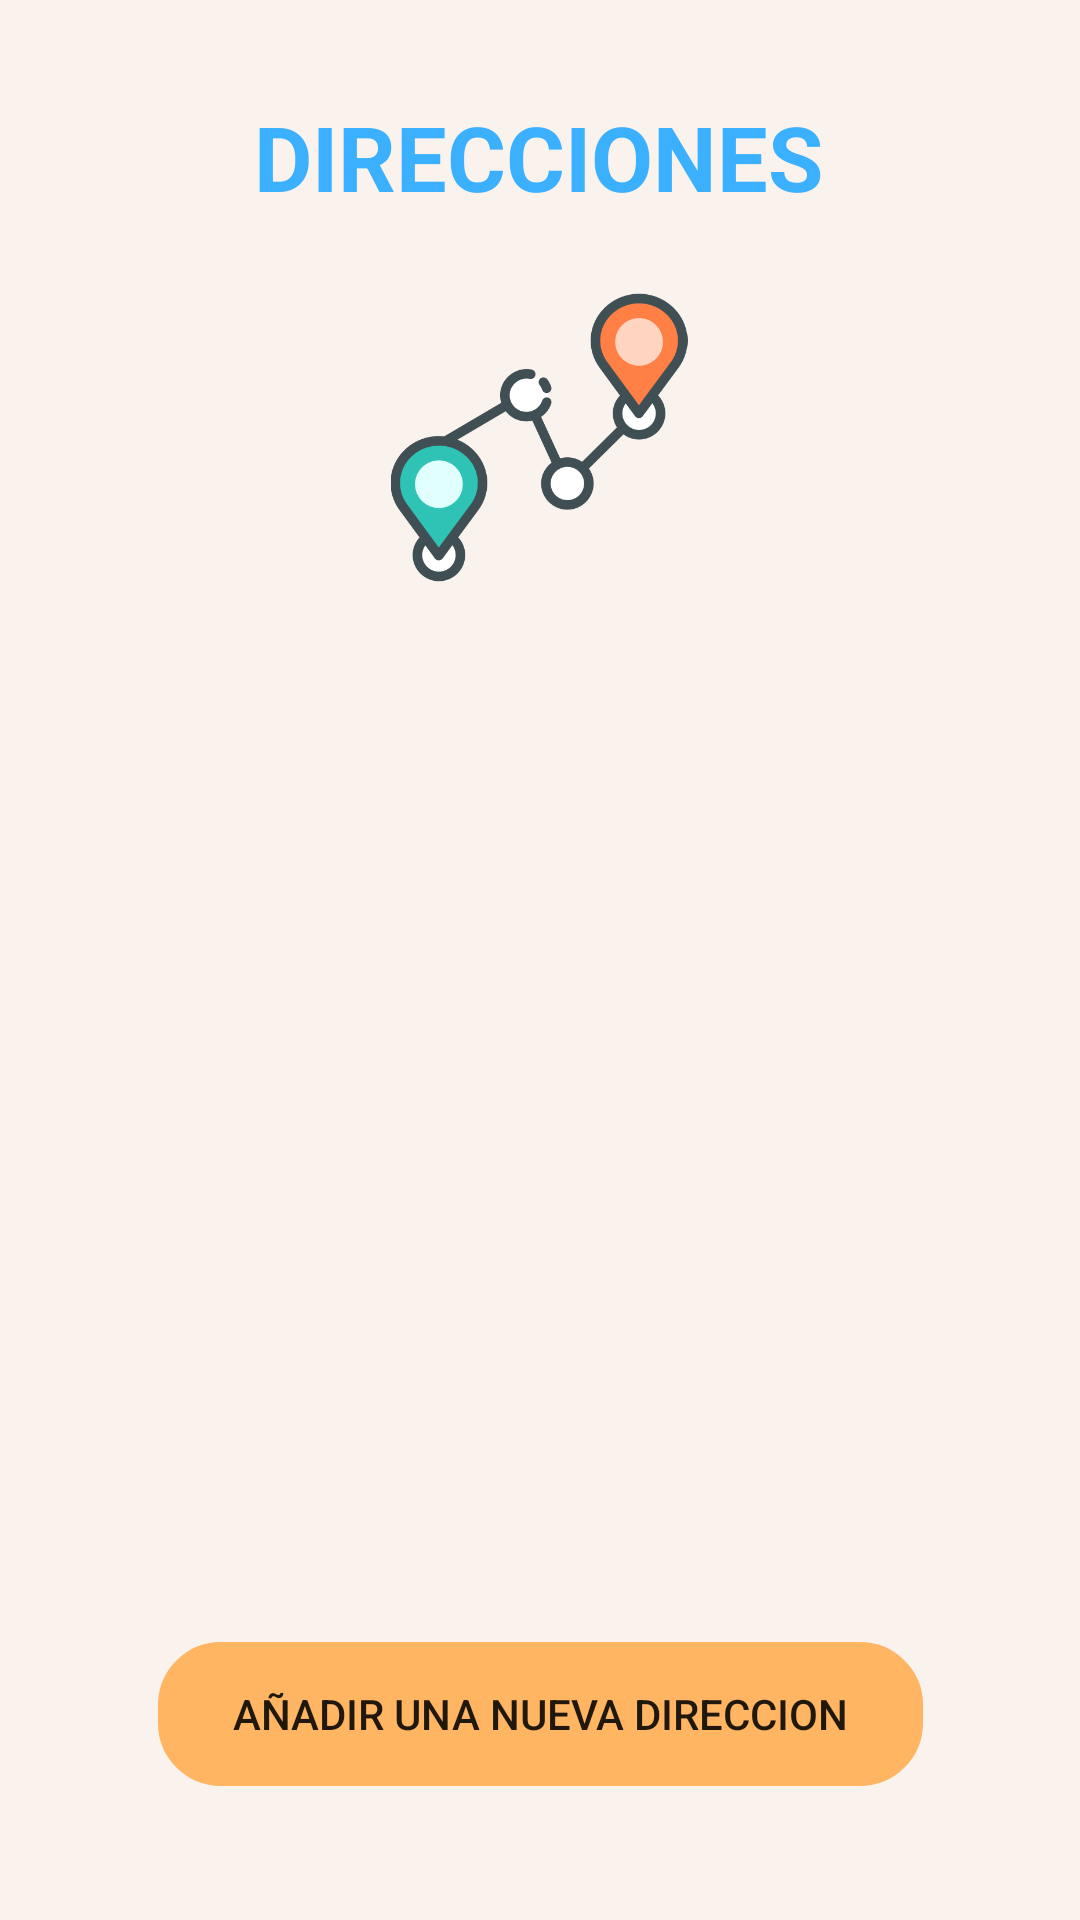

Icon click points for this 1080×1920 phone screenshot, format (x=x, y=y):
pin de ubicacion: (x=539, y=437)
